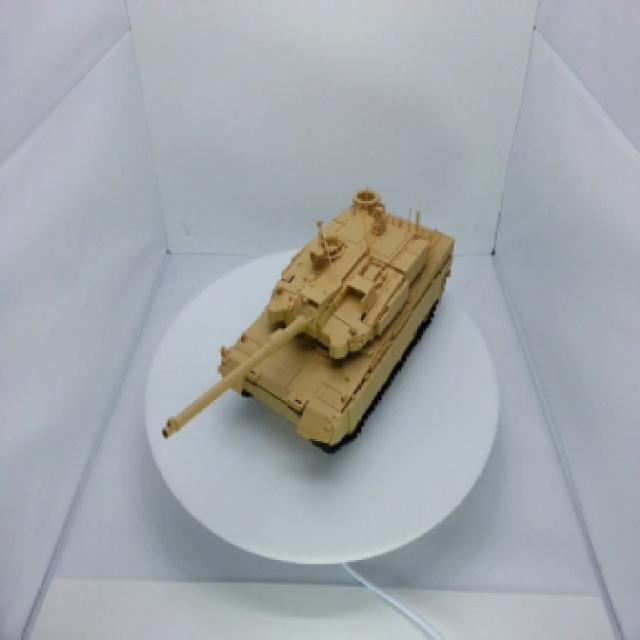korea tank: (160, 158, 471, 488)
